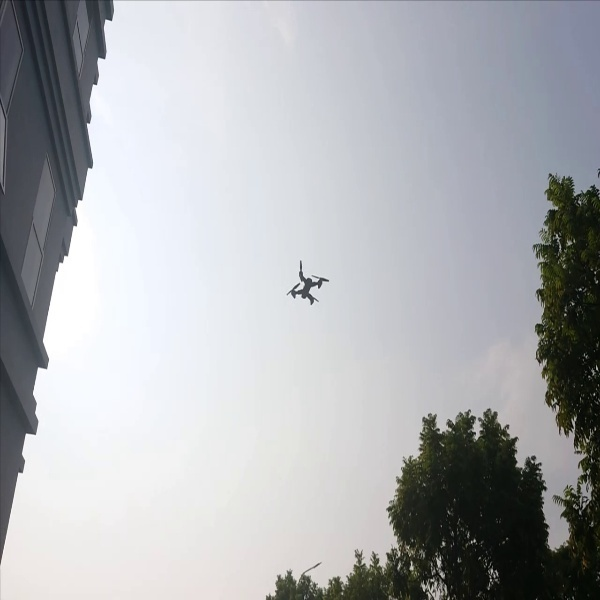drone: (281, 256, 331, 311)
